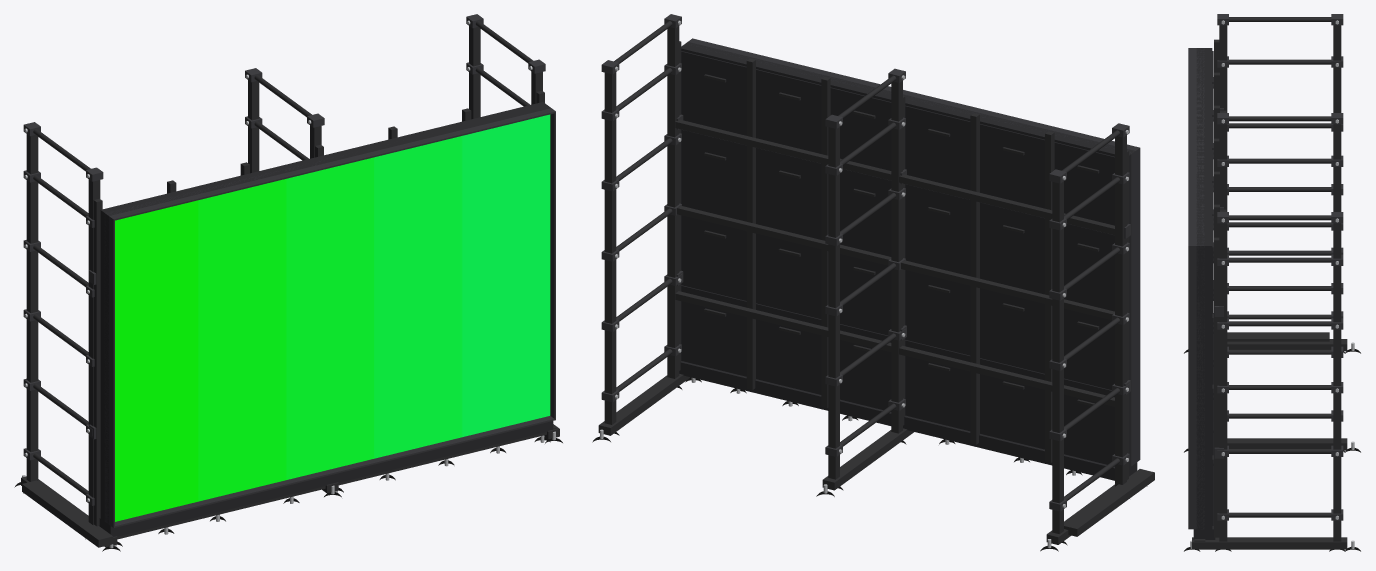
The model's file is led_video_wall_2.glb.
3 views of the same model, side by side, from view 1: azimuth 30°, elevation 25°; view 2: azimuth 150°, elevation 25°; view 3: azimuth 270°, elevation 25° (orthographic). The views are drawn at different scales.
Parts seen in each view (by area): view 1: LED_Video_Wall; view 2: LED_Video_Wall; view 3: LED_Video_Wall.
Part boxes in pixels (left/top/right/bottom): LED_Video_Wall: left=14, top=14, right=562, bottom=551; LED_Video_Wall: left=592, top=14, right=1154, bottom=551; LED_Video_Wall: left=1184, top=14, right=1360, bottom=551.
Bounding box in the file's own units: 3.16 × 2.39 × 1.14.
7 materials, 1 textured.
